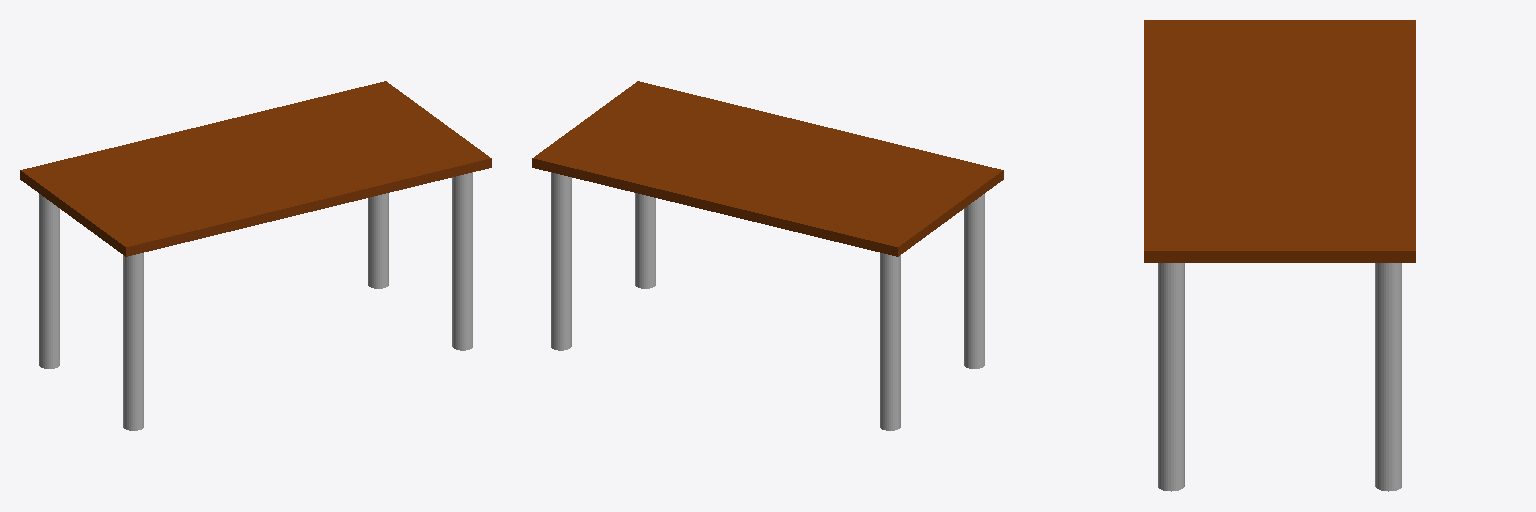
URDF robot description (rrbot):
<?xml version="1.0"?>
<robot name="rrbot">

  <!-- define the colors -->
 <material name="brown">
    <color rgba="0.54 0.27 0.07 1.0"/>
</material>
<material name="light_grey">
    <color rgba="0.8 0.8 0.8 1.0"/>
</material>
  
  <!-- create link fixed to the "world" -->
  <link name="world" />

  <!-- joint from "world" to "base_link"-->
  <joint name="base_joint" type="fixed">
    <origin rpy="0 0 0" xyz="0 0 1" />
    <parent link="world" />
    <child link="Top_link" />
  </joint>

  <!-- Top Link -->
  <link name="Top_link">
    <visual>
      <origin rpy="0 0 0" xyz="0 0 -0.025" />
      <geometry>
        <box size="2 1 0.05" />
      </geometry>
      <material name="brown" />
    </visual>
  </link>



  <!-- Link 1 -->
  <link name="leg1">
    <visual>
      <origin rpy="0 0 0" xyz="0 0 -0.475" />
      <geometry>
        <cylinder radius="0.05" length="0.95" />
      </geometry>
      <material name="light_grey" />
    </visual>
  </link>

   <!-- Link 2-->
  <link name="leg2">
    <visual>
      <origin rpy="0 0 0" xyz="0 0 -0.475" />
      <geometry>
        <cylinder radius="0.05" length="0.95" />
      </geometry>
      <material name="light_grey" />
    </visual>
  </link>

   <!-- Link 3-->
  <link name="leg3">
    <visual>
      <origin rpy="0 0 0" xyz="0 0 -0.475" />
      <geometry>
        <cylinder radius="0.05" length="0.95" />
      </geometry>
      <material name="light_grey" />
    </visual>
  </link>


   <!-- Link 4-->
  <link name="leg4">
    <visual>
      <origin rpy="0 0 0" xyz="0 0 -0.475" />
      <geometry>
        <cylinder radius="0.05" length="0.95" />
      </geometry>
      <material name="light_grey" />
    </visual>
  </link>



    <!-- Joint 1 -->
  <joint name="joint1" type="fixed">
    <parent link="Top_link" />
    <child link="leg1" />
    <!-- offset by 5cm in y axis -->
    <origin rpy="0 0 0" xyz="0.9 0.4 -0.05" />
    <axis xyz="0 1 0" />
  </joint>


     <!-- Joint 1 -->
  <joint name="joint2" type="fixed">
    <parent link="Top_link" />
    <child link="leg2" />
    <!-- offset by 5cm in y axis -->
    <origin rpy="0 0 0" xyz="0.9 -0.4 -0.05" />
    <axis xyz="0 1 0" />
  </joint>

     <!-- Joint 1 -->
  <joint name="joint3" type="fixed">
    <parent link="Top_link" />
    <child link="leg3" />
    <!-- offset by 5cm in y axis -->
    <origin rpy="0 0 0" xyz="-0.9 0.4 -0.05" />
    <axis xyz="0 1 0" />
  </joint>

     <!-- Joint 1 -->
  <joint name="joint4" type="fixed">
    <parent link="Top_link" />
    <child link="leg4" />
    <!-- offset by 5cm in y axis -->
    <origin rpy="0 0 0" xyz="-0.9 -0.4 -0.05" />
    <axis xyz="0 1 0" />
  </joint>


</robot>

--- Facts derived from the render (not from the file) ---
Views: 3 orthographic renders of the robot side by side, from view 1: azimuth 30°, elevation 25°; view 2: azimuth 150°, elevation 25°; view 3: azimuth 270°, elevation 25°.
Robot: rrbot — 6 links, 5 joints (5 fixed); root link world; default pose: every joint at zero.
Links seen in each view (by area): view 1: Top_link, leg4, leg2, leg3, leg1; view 2: Top_link, leg3, leg1, leg4, leg2; view 3: Top_link, leg1, leg2.
Link boxes in pixels (x1,y1,x2,y2): Top_link: [20, 81, 491, 256]; leg4: [123, 253, 143, 430]; leg2: [452, 172, 472, 350]; leg3: [39, 194, 59, 368]; leg1: [368, 193, 388, 288]; Top_link: [532, 81, 1003, 256]; leg3: [880, 253, 900, 430]; leg1: [551, 172, 571, 350]; leg4: [964, 194, 984, 368]; leg2: [635, 193, 655, 288]; Top_link: [1144, 20, 1415, 262]; leg1: [1375, 263, 1401, 491]; leg2: [1158, 263, 1184, 491].
Bounding box of the posed robot: 2 × 1 × 1 m (x, y, z).
Geometry: primitives only (box / cylinder / sphere), no mesh files.
